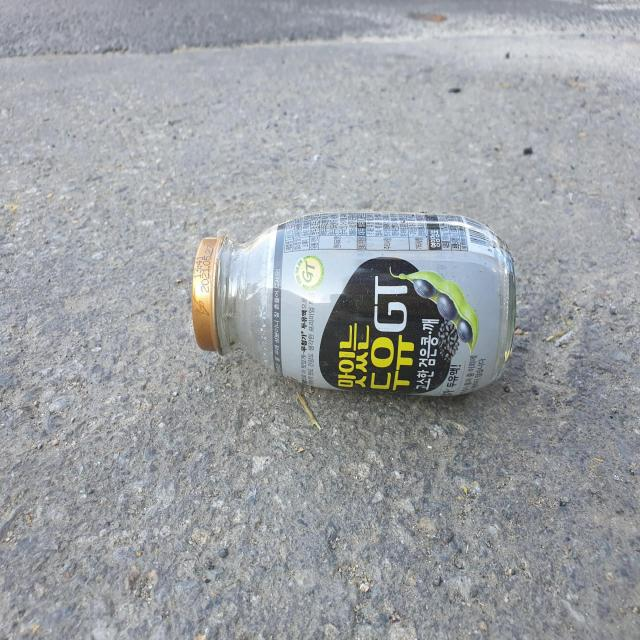glass: (192, 212, 517, 396)
